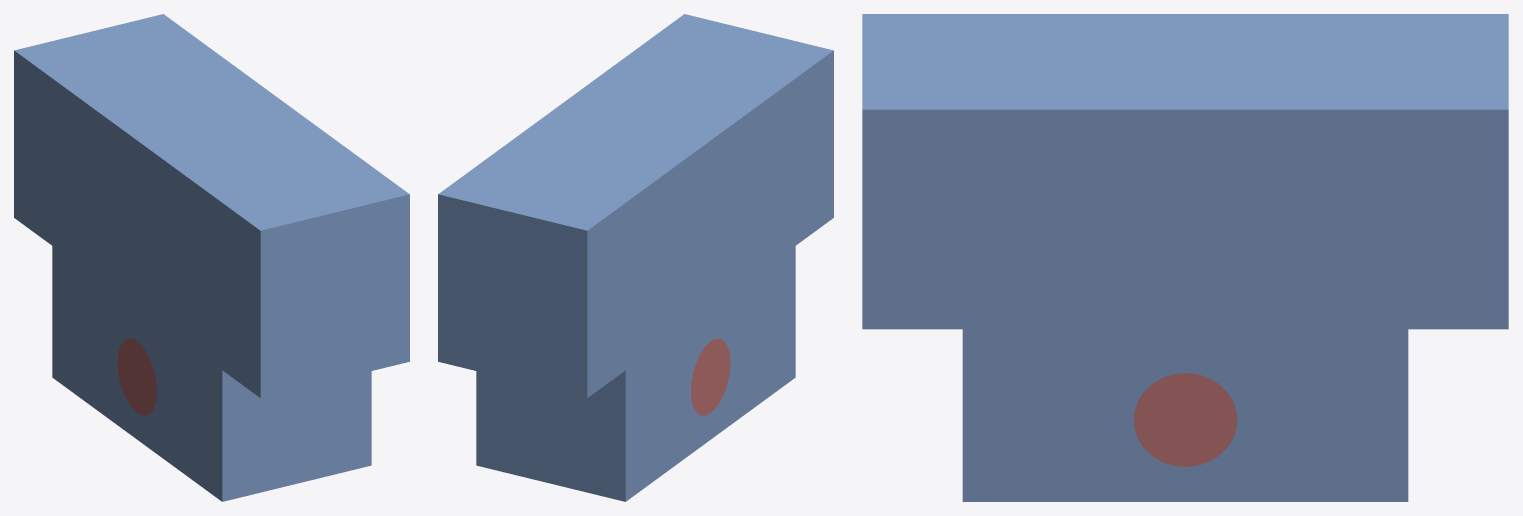
The model's file is step_10.glb.
3 renders of one model, left to right at view 1: azimuth 30°, elevation 25°; view 2: azimuth 150°, elevation 25°; view 3: azimuth 270°, elevation 25°, orthographic. The views are drawn at different scales.
Visible parts, largest first — view 1: part__moving jaw, removed__moving jaw; view 2: part__moving jaw, removed__moving jaw; view 3: part__moving jaw, removed__moving jaw.
Part boxes in pixels (x1,y1,x2,y2): part__moving jaw: (14,14,409,501); removed__moving jaw: (117,338,156,415); part__moving jaw: (438,14,833,501); removed__moving jaw: (691,338,730,415); part__moving jaw: (862,14,1508,501); removed__moving jaw: (1134,373,1236,466).
Bounding box in the file's own units: 35 × 67 × 100.
